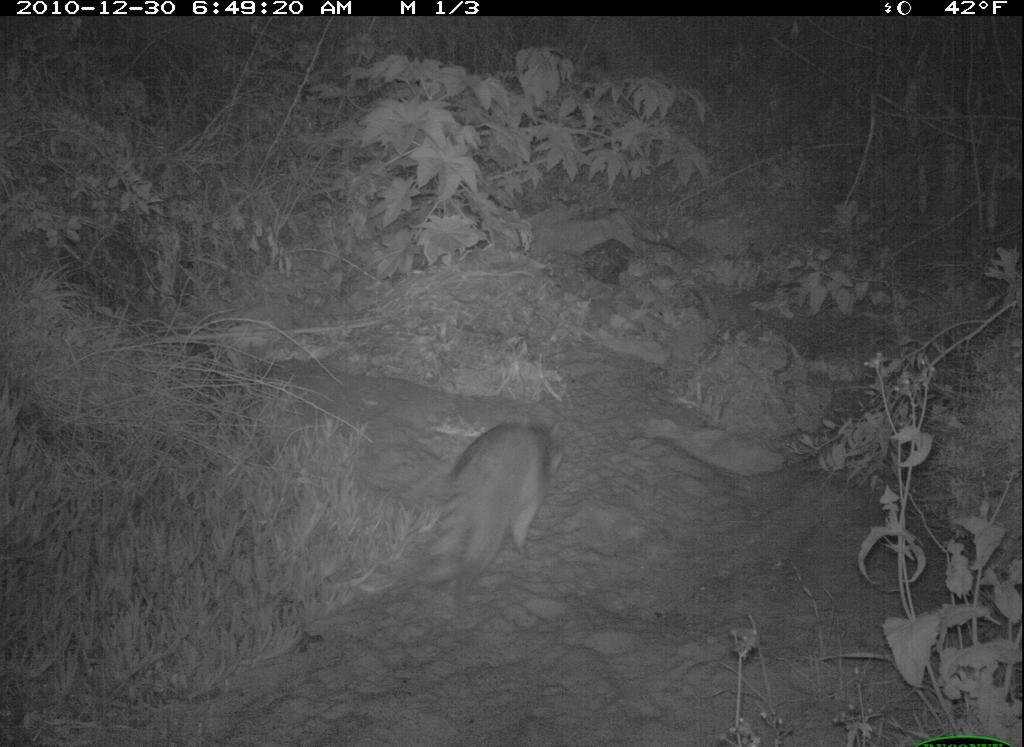raccoon: (405, 411, 574, 598)
